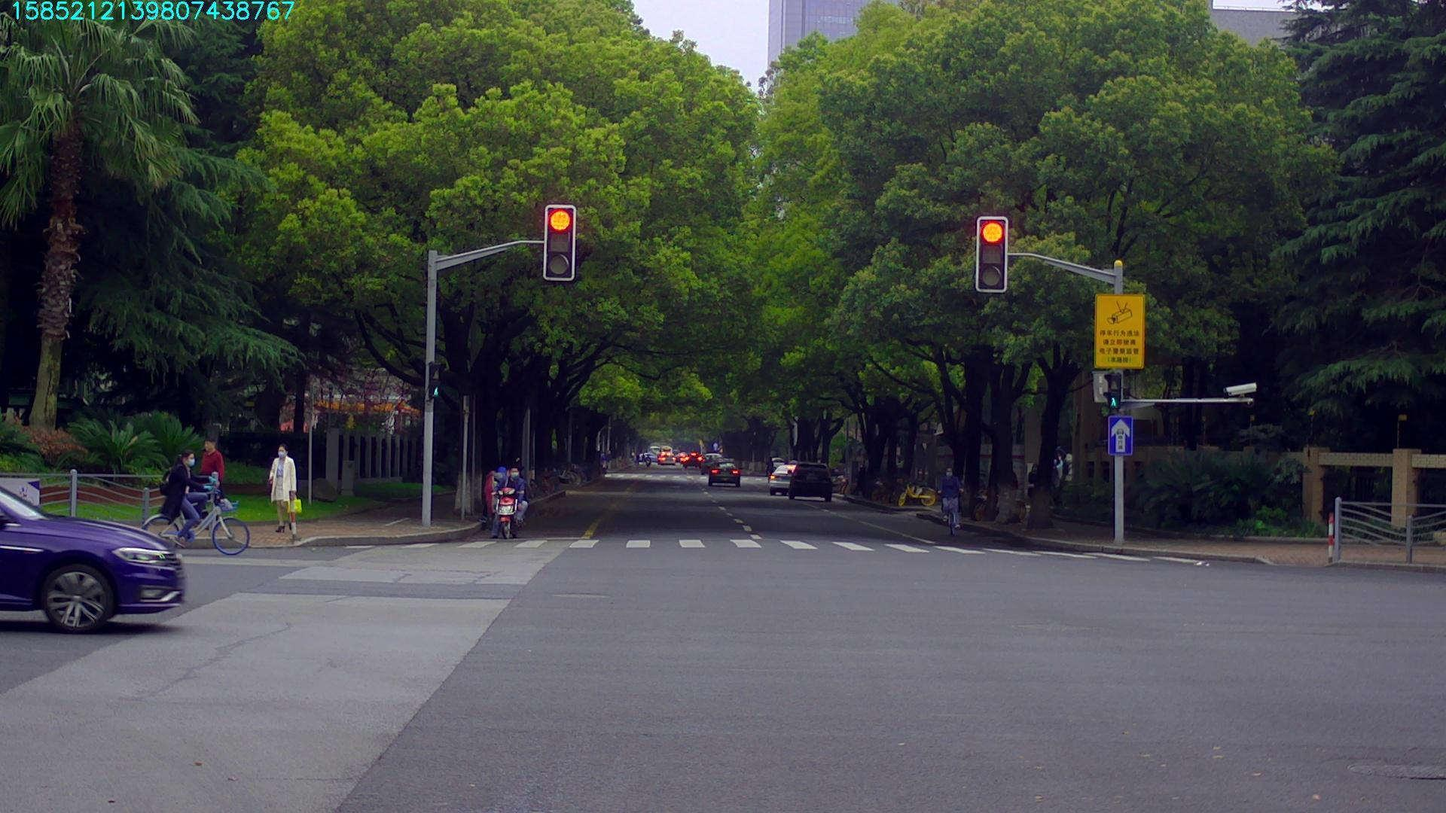red: (546, 206, 573, 277), (978, 219, 1005, 290)
